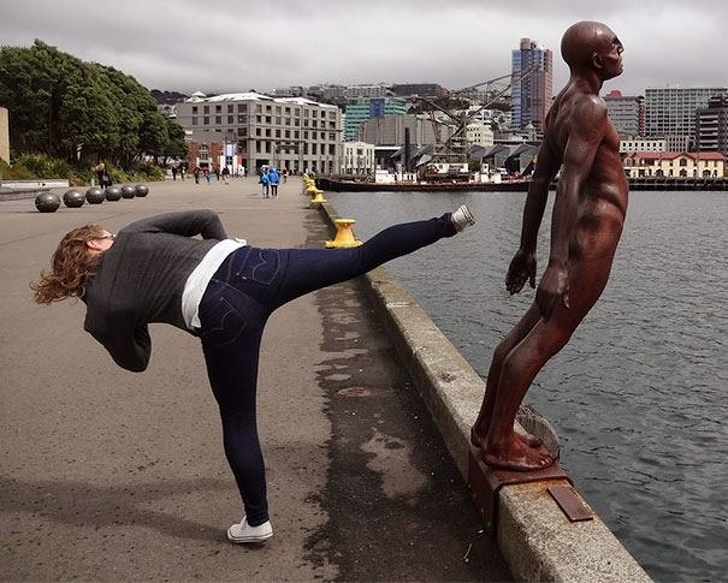person: (25, 193, 477, 550), (256, 167, 271, 202), (268, 165, 281, 201)
person-like: (463, 16, 635, 478)
